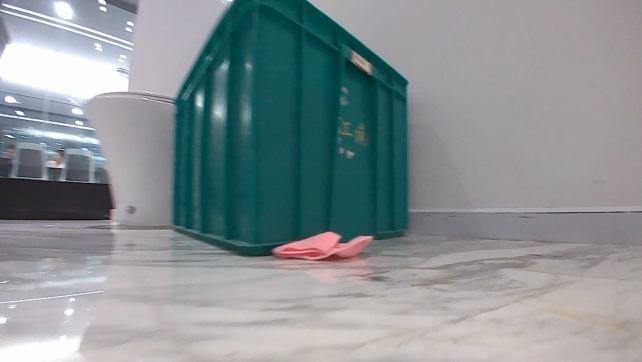socks: (269, 229, 375, 261)
toilet: (82, 88, 179, 229)
